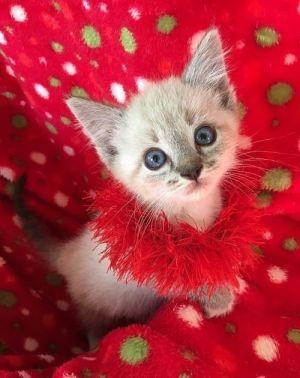siamese: (63, 25, 256, 219)
